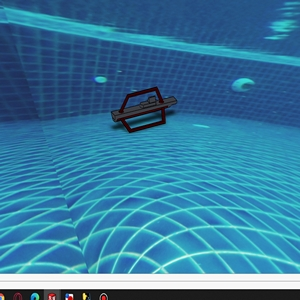submarine: (112, 82, 176, 133)
